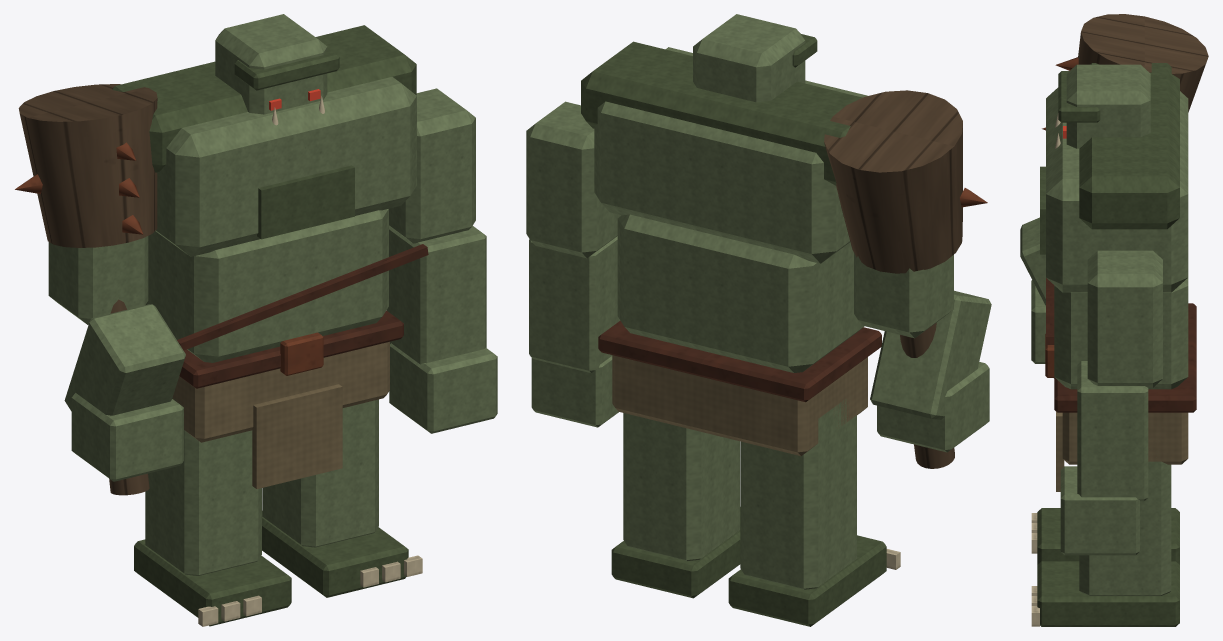
3 views of the same model, side by side, from view 1: azimuth 30°, elevation 25°; view 2: azimuth 150°, elevation 25°; view 3: azimuth 270°, elevation 25° (orthographic). The views are drawn at different scales.
Visible parts, largest first — view 1: survival_behemoth; view 2: survival_behemoth; view 3: survival_behemoth.
Boxes of the visible parts, x1,y1,x2,y2 form: survival_behemoth: (15, 14, 497, 626); survival_behemoth: (526, 14, 991, 626); survival_behemoth: (1020, 14, 1208, 626).
Bounding box in the file's own units: 5.78 × 6.65 × 2.25.
Materials: 9 (9 with a texture image).
